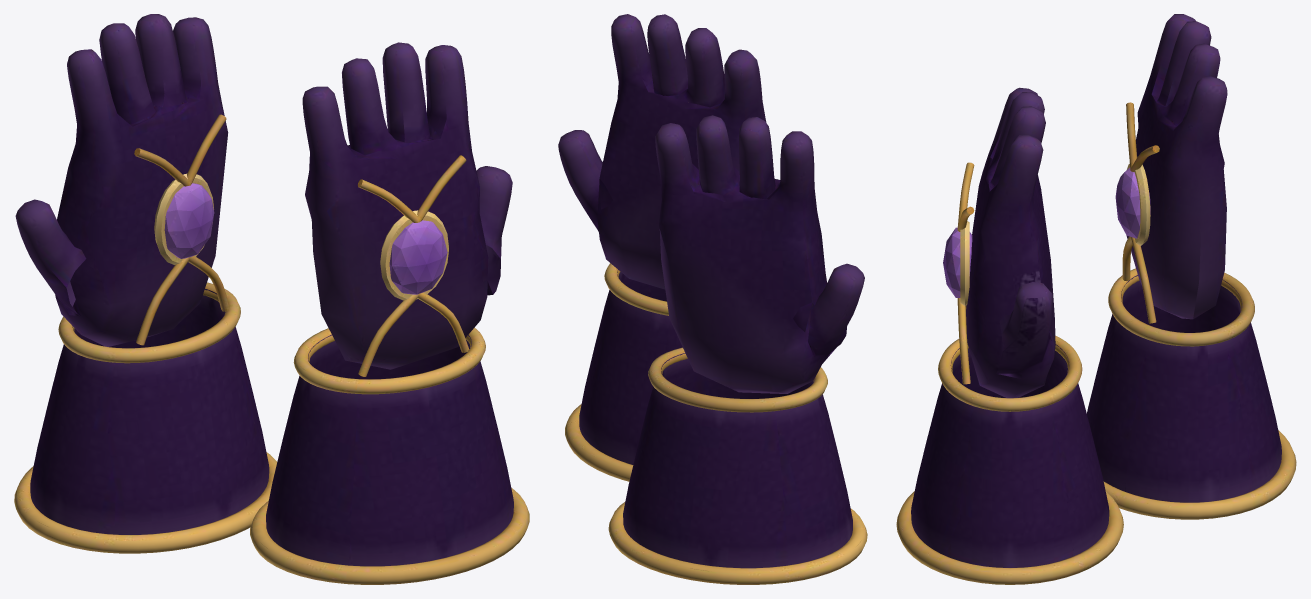
The model's file is spellweave_gloves.glb.
The picture shows the model from 3 angles, left to right: view 1: azimuth 30°, elevation 25°; view 2: azimuth 150°, elevation 25°; view 3: azimuth 270°, elevation 25°; orthographic projection. The views are drawn at different scales.
Parts seen in each view (by area): view 1: spellweave_gloves; view 2: spellweave_gloves; view 3: spellweave_gloves.
Boxes of the visible parts, x1,y1,x2,y2 form: spellweave_gloves: (14,14,529,584); spellweave_gloves: (558,14,867,584); spellweave_gloves: (896,14,1296,584).
Bounding box in the file's own units: 0.24 × 0.2653 × 0.2216.
Materials: 1 (1 with a texture image).
